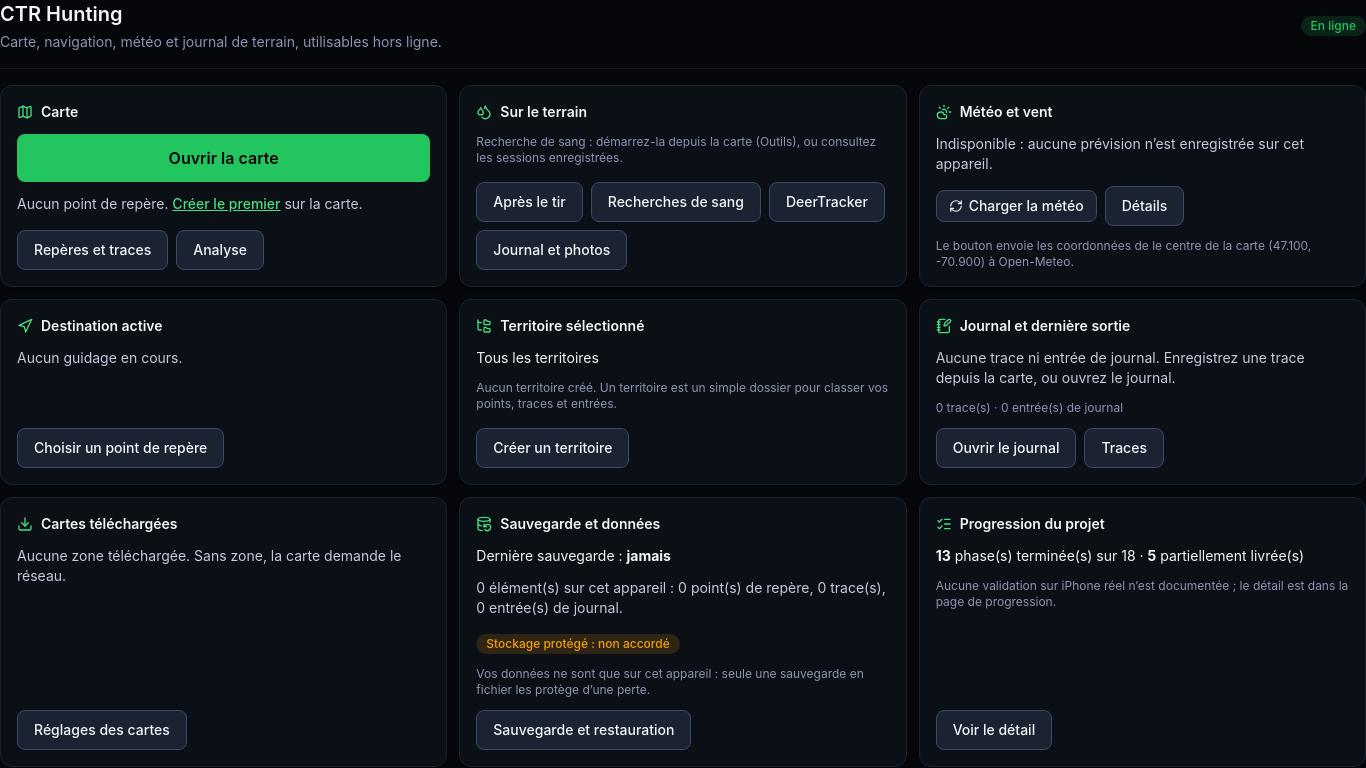
Test: DashboardPage — weather and wind › shows an explicit error, not a made-up value, when the request fails with nothing saved
Click the button "Charger la météo".
click(1016, 206)  # box [936,190,1097,222]
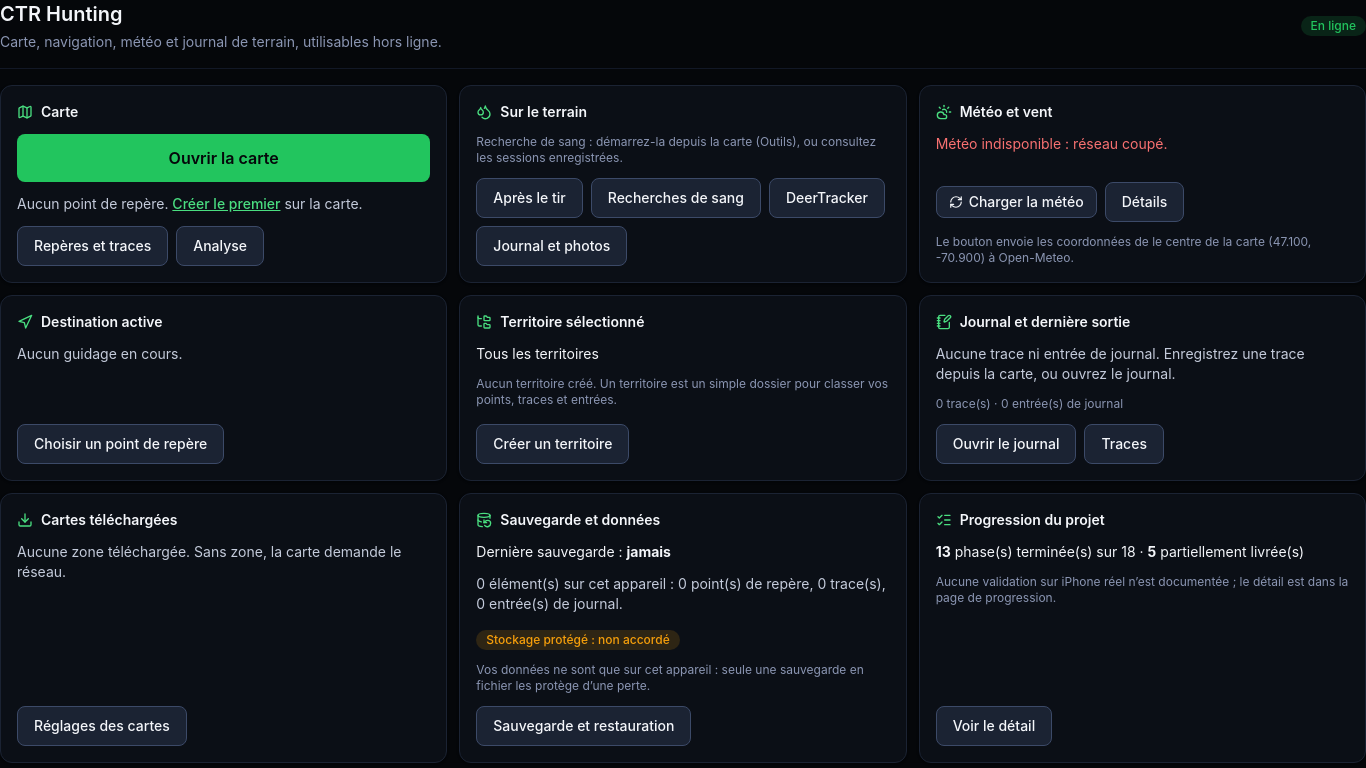
Result: the text "Météo indisponible : réseau coupé." is shown at [936,135,1168,152]
